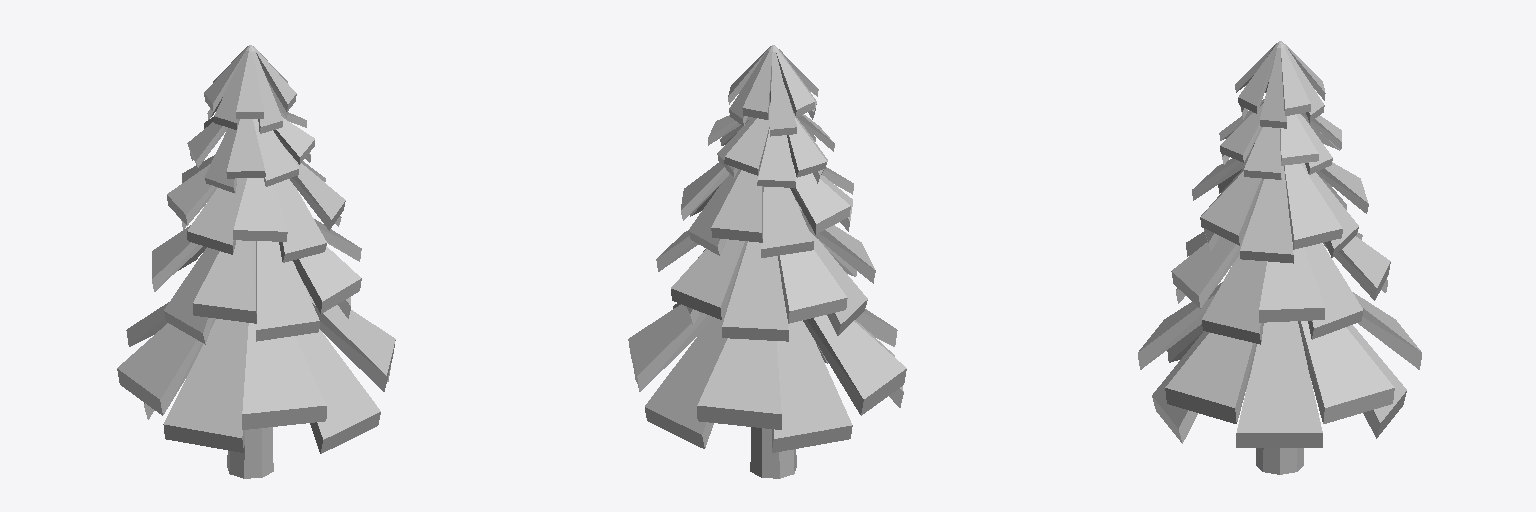
The model's file is pinonevado.obj.
The picture shows the model from 3 angles: view 1: azimuth 30°, elevation 25°; view 2: azimuth 150°, elevation 25°; view 3: azimuth 270°, elevation 25°; orthographic projection.
Visible parts, largest first — view 1: Circle.001_Circle.010, Circle.002_Circle.011, Circle.003_Circle.012, Circle.004_Circle.013, Circle.010_Circle.014, Cylinder.002; view 2: Circle.001_Circle.010, Circle.002_Circle.011, Circle.003_Circle.012, Circle.004_Circle.013, Circle.010_Circle.014, Cylinder.002; view 3: Circle.001_Circle.010, Circle.002_Circle.011, Circle.003_Circle.012, Circle.004_Circle.013, Circle.010_Circle.014, Cylinder.002.
Boxes of the visible parts, x1=… form: Circle.001_Circle.010: x1=117, y1=279, x2=395, y2=453; Circle.002_Circle.011: x1=152, y1=219, x2=361, y2=344; Circle.003_Circle.012: x1=167, y1=148, x2=345, y2=262; Circle.004_Circle.013: x1=187, y1=108, x2=314, y2=193; Circle.010_Circle.014: x1=204, y1=45, x2=296, y2=133; Cylinder.002: x1=227, y1=427, x2=273, y2=478; Circle.001_Circle.010: x1=628, y1=288, x2=906, y2=452; Circle.002_Circle.011: x1=656, y1=201, x2=875, y2=341; Circle.003_Circle.012: x1=681, y1=159, x2=853, y2=257; Circle.004_Circle.013: x1=708, y1=102, x2=834, y2=187; Circle.010_Circle.014: x1=728, y1=45, x2=818, y2=136; Cylinder.002: x1=750, y1=76, x2=796, y2=478; Circle.001_Circle.010: x1=1138, y1=282, x2=1421, y2=447; Circle.002_Circle.011: x1=1171, y1=221, x2=1390, y2=344; Circle.003_Circle.012: x1=1192, y1=147, x2=1368, y2=263; Circle.004_Circle.013: x1=1219, y1=99, x2=1341, y2=179; Circle.010_Circle.014: x1=1235, y1=41, x2=1325, y2=128; Cylinder.002: x1=1256, y1=128, x2=1303, y2=474.
Size of the model in its own units: 2.95 by 5.09 by 3.11.